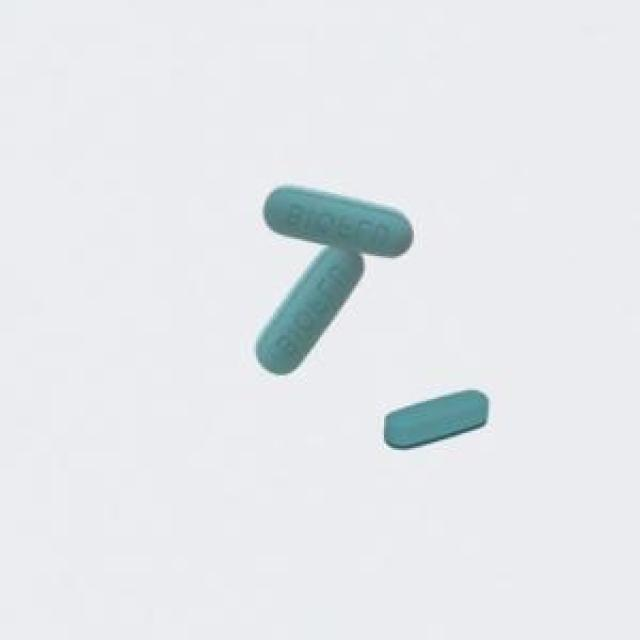Bioflu: (244, 180, 421, 388), (369, 384, 509, 457)
